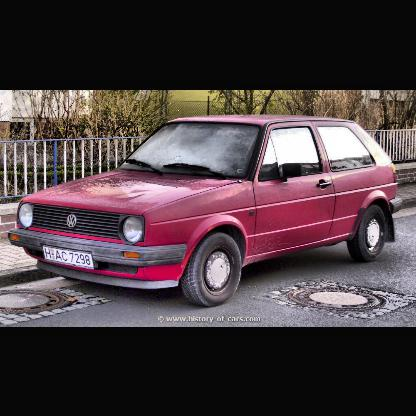Volkswagen Golf Hatchback 1991: (8, 116, 396, 309)
